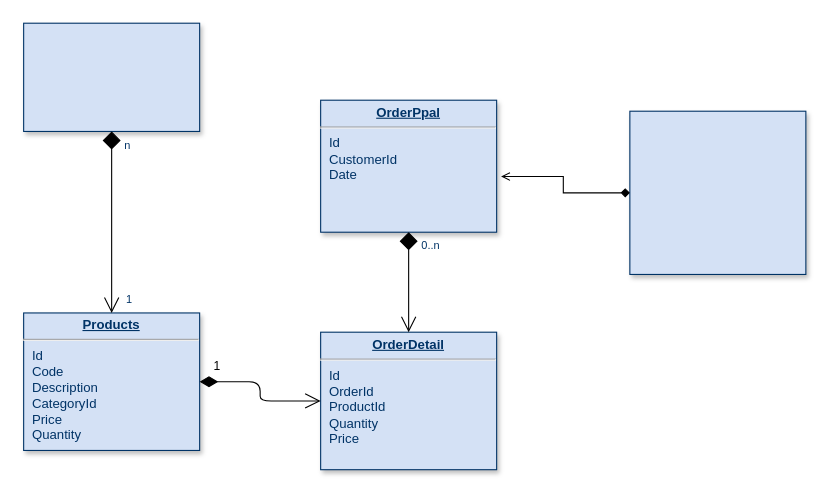
The diagram is 833 pixels wide and 497 high, and some of its shapes have lost their labels. Each missing label, with the centre of its shape:
"Categories Id Code Name" belongs at point (112, 78).
"Customer Id Document Name Address City Telephone Cellphone" belongs at point (718, 194).
